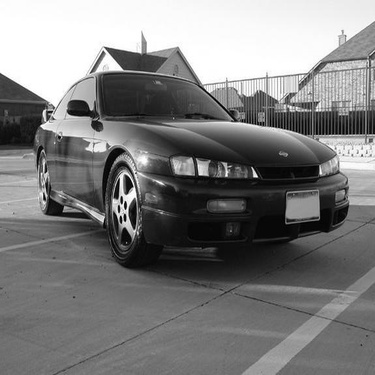car: (22, 63, 353, 278)
